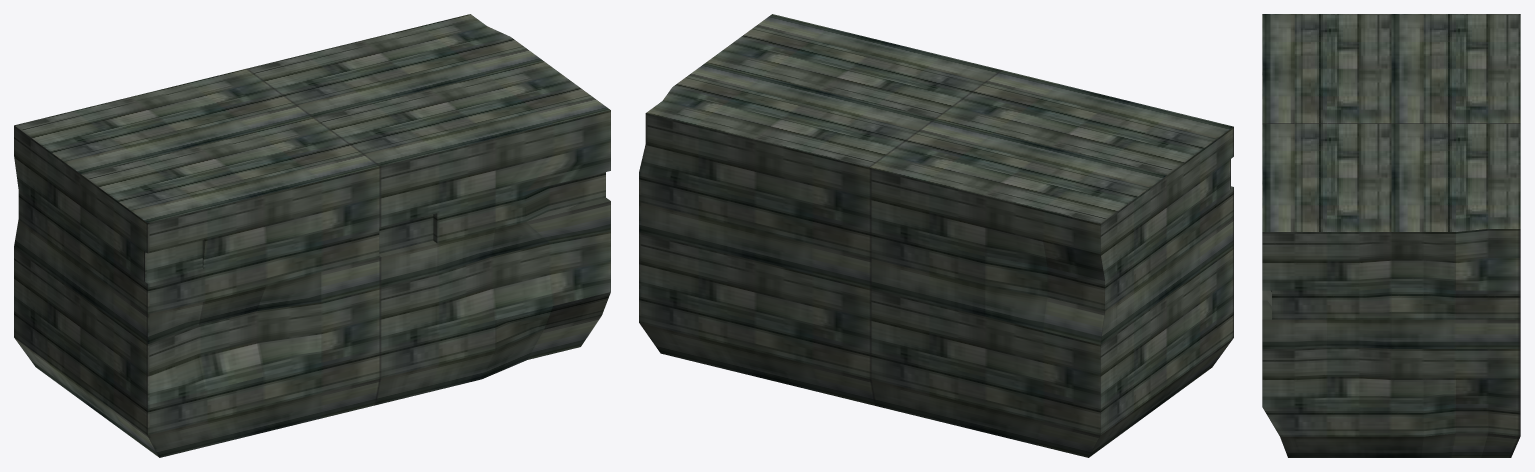
Rendered from brick_ground03.fbx.
3 renders of one model, left to right at view 1: azimuth 30°, elevation 25°; view 2: azimuth 150°, elevation 25°; view 3: azimuth 270°, elevation 25°, orthographic. The views are drawn at different scales.
Parts seen in each view (by area): view 1: Cube; view 2: Cube; view 3: Cube.
Part boxes in pixels (left/top/right/bottom): Cube: left=14, top=14, right=610, bottom=457; Cube: left=639, top=14, right=1233, bottom=457; Cube: left=1262, top=14, right=1520, bottom=457.
Size of the model in its own units: 4000 by 2000 by 2000.
1 material, 1 textured.
